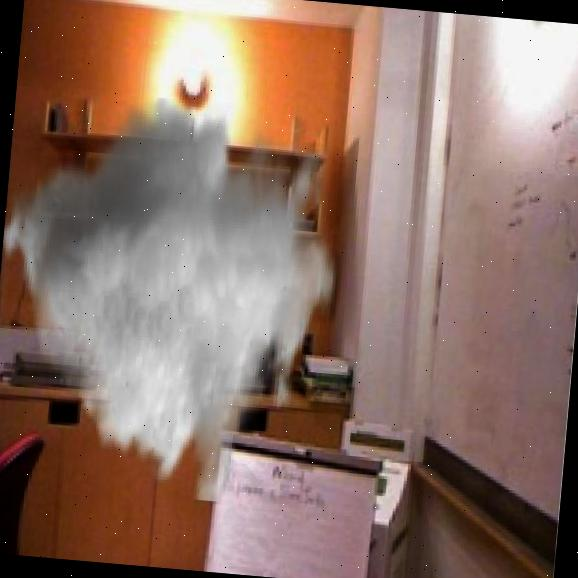smoke: (0, 85, 349, 513)
